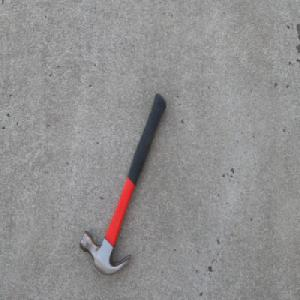Hammer: (78, 91, 167, 276)
